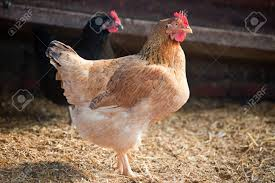chicken: (43, 3, 202, 181)
